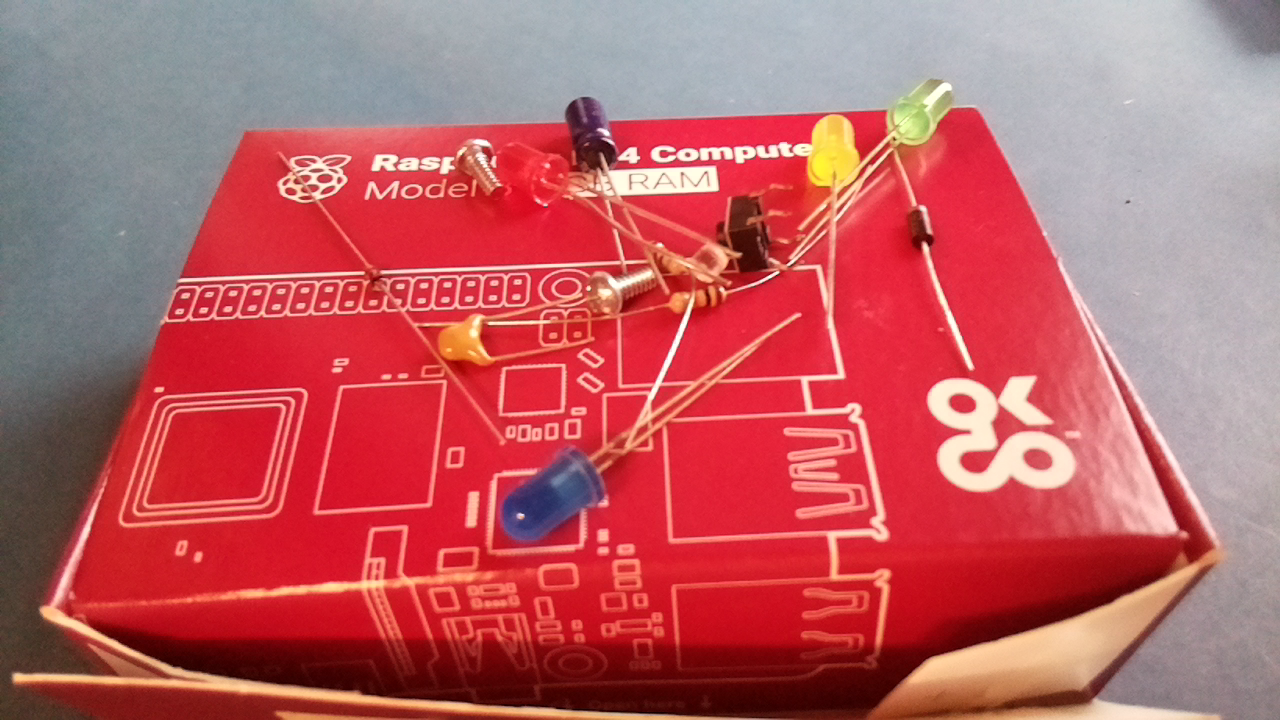button: (712, 192, 779, 277)
capacitor: (563, 96, 621, 172), (432, 311, 499, 374)
diode: (905, 204, 934, 251), (361, 266, 391, 295)
led: (493, 443, 609, 548), (491, 140, 571, 212), (883, 75, 959, 146), (805, 113, 868, 192)
resistor: (639, 236, 690, 280), (663, 286, 730, 316)
